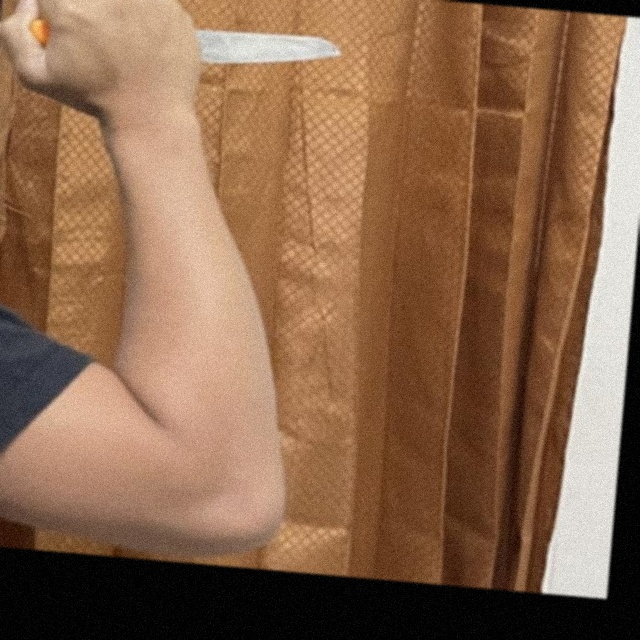Sharp-Object: (29, 12, 344, 76)
